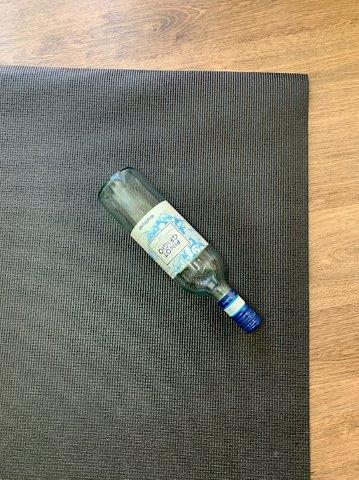botolkaca: (99, 168, 263, 332)
